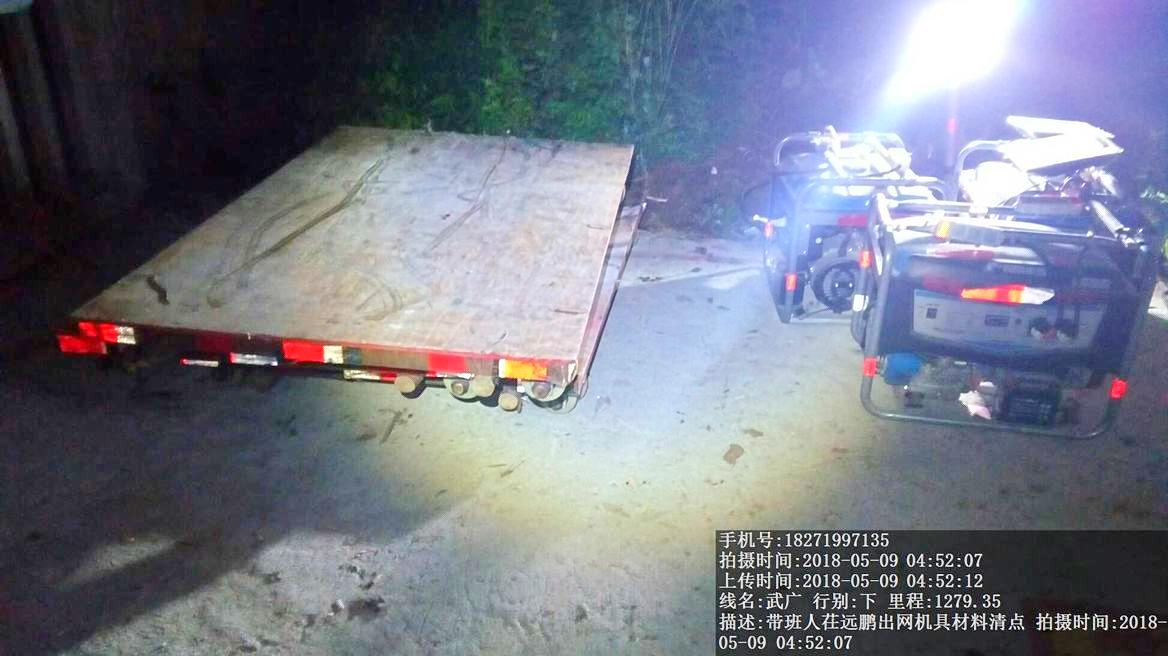DJ: (853, 171, 1145, 450)
